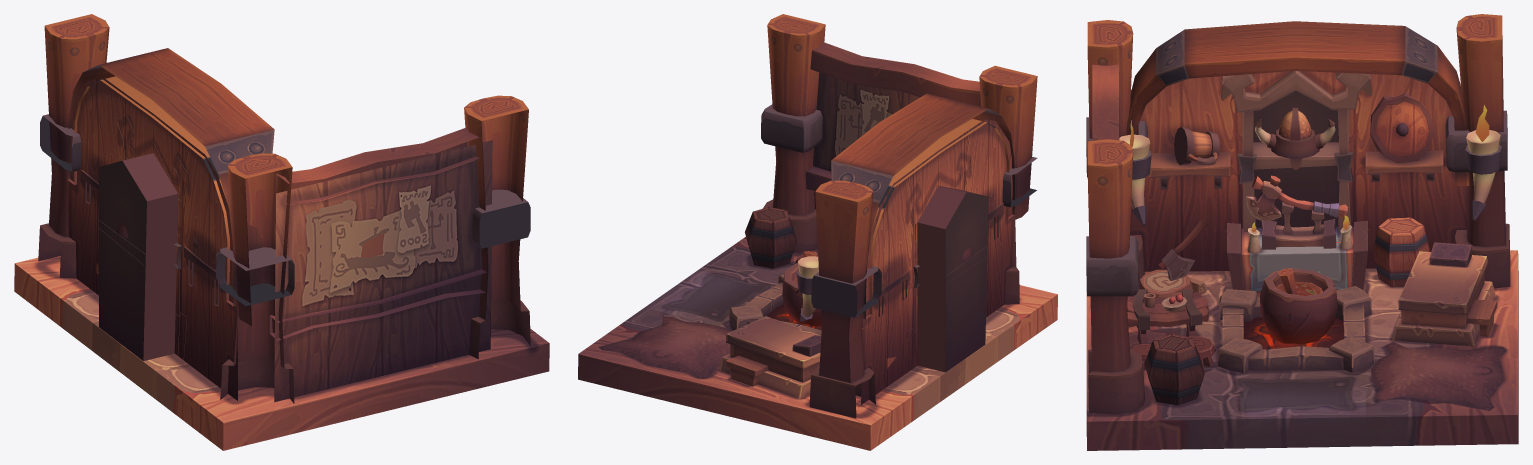
The model's file is vikingroom.glb.
3 views of the same model, side by side, from view 1: azimuth 30°, elevation 25°; view 2: azimuth 150°, elevation 25°; view 3: azimuth 270°, elevation 25° (orthographic). The views are drawn at different scales.
Visible parts, largest first — view 1: mesh_all1_Texture1_0; view 2: mesh_all1_Texture1_0; view 3: mesh_all1_Texture1_0.
Part boxes in pixels (box(x1,y1,x2,y2)): mesh_all1_Texture1_0: box(14, 14, 549, 450); mesh_all1_Texture1_0: box(578, 14, 1057, 450); mesh_all1_Texture1_0: box(1086, 14, 1518, 450).
Bounding box in the file's own units: 1.33 × 1.05 × 1.46.
1 material, 1 textured.
